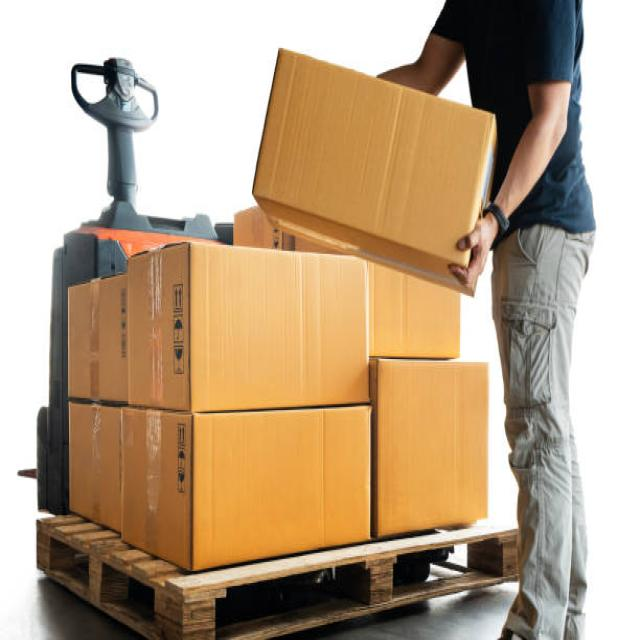Wooden-Pallets: (35, 517, 516, 640)
